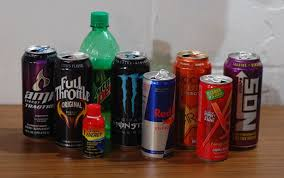can: (192, 72, 235, 162), (143, 74, 185, 164), (56, 48, 91, 151), (21, 45, 56, 141), (230, 55, 262, 148)
